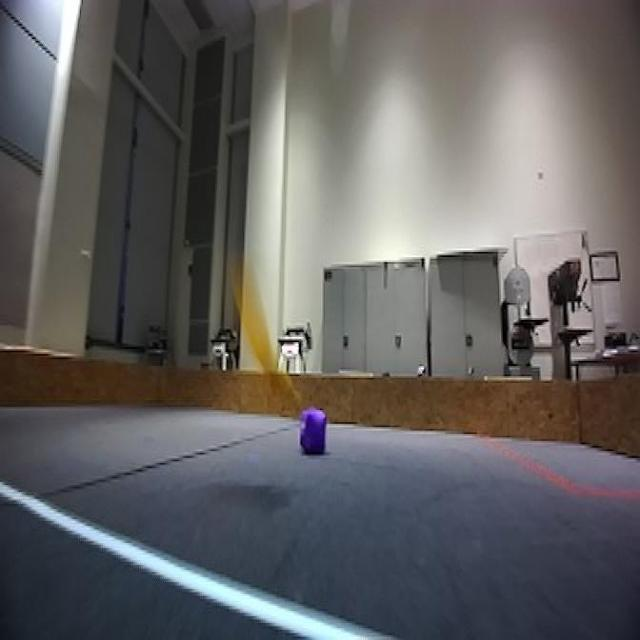frc_cone: (227, 271, 277, 378)
frc_cube: (299, 407, 330, 458)
